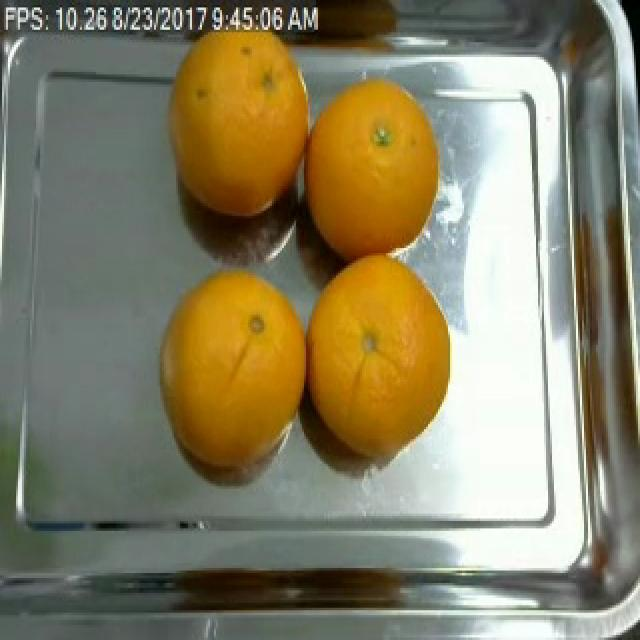Fruit: (150, 8, 316, 224), (294, 57, 448, 285)
